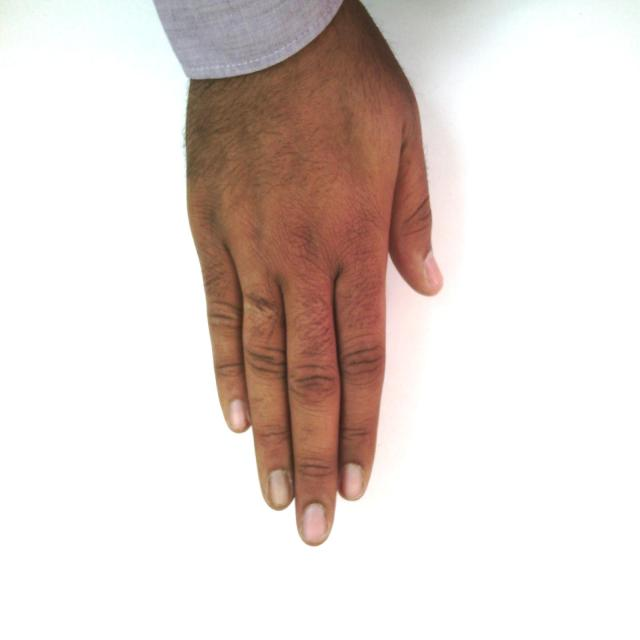hand: (176, 86, 444, 550)
